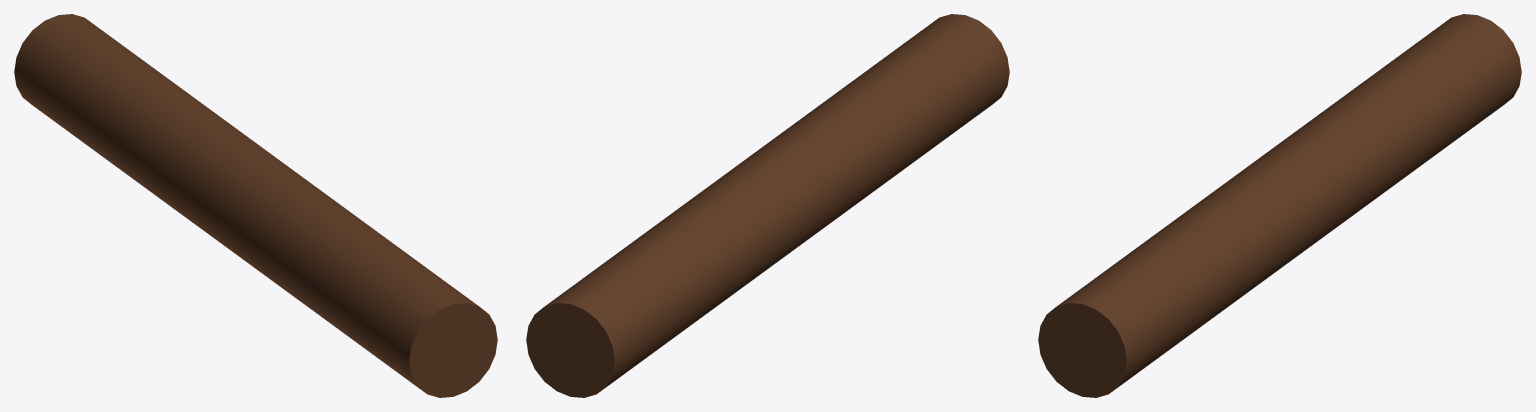
File: maruta_single.fbx
3 views of the same model, side by side, from view 1: azimuth 30°, elevation 25°; view 2: azimuth 150°, elevation 25°; view 3: azimuth 330°, elevation 25° (orthographic).
Parts seen in each view (by area): view 1: pCylinder1; view 2: pCylinder1; view 3: pCylinder1.
Part boxes in pixels (x1,y1,x2,y2): pCylinder1: [14, 14, 497, 397]; pCylinder1: [526, 14, 1009, 397]; pCylinder1: [1038, 14, 1521, 397].
Size of the model in its own units: 0.647 by 0.647 by 4.99.
